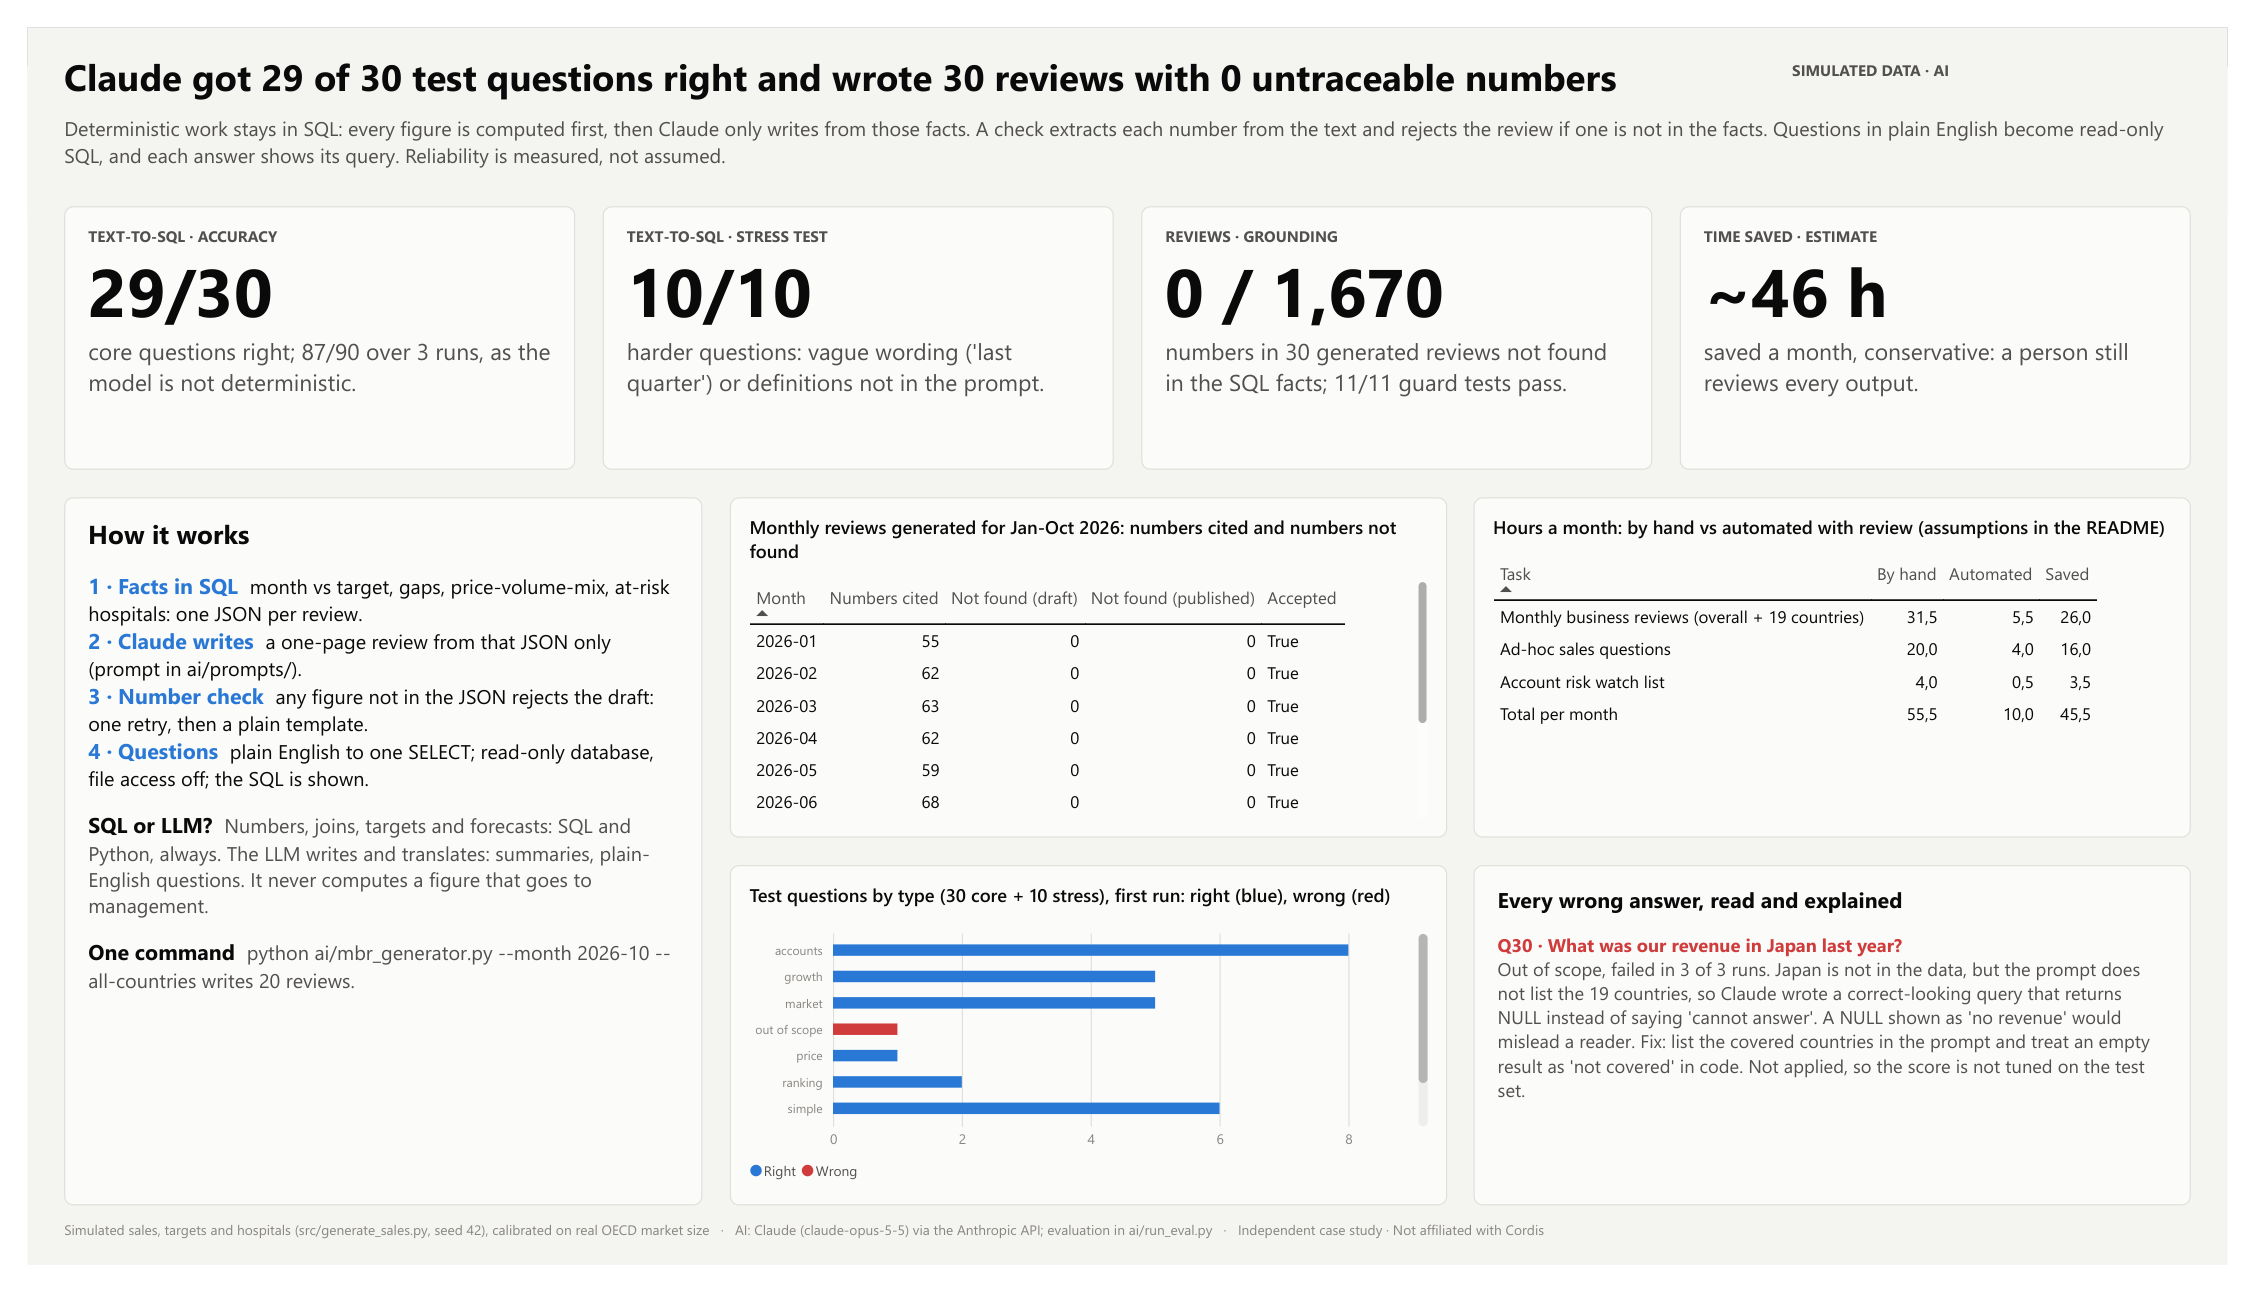

What the dashboard file says about the page in this screenshot:
{"tool":"powerbi","page":{"name":"5 · AI-automated reporting","canvas":[1920,1080],"ordinal":5},"visuals":[{"type":"textbox","box":[32,20,1500,56],"z":1000},{"type":"textbox","box":[1540,28,348,40],"z":2000},{"type":"textbox","box":[32,76,1856,64],"z":3000},{"type":"textbox","box":[32,156,446,230],"z":4000},{"type":"textbox","box":[502,156,446,230],"z":5000},{"type":"textbox","box":[972,156,446,230],"z":6000},{"type":"textbox","box":[1442,156,446,230],"z":7000},{"type":"textbox","box":[32,410,557,618],"z":8000},{"type":"tableEx","title":"Monthly reviews generated for Jan-Oct 2026: numbers cited and numbers not found","fields":{"Values":["AI MBR Eval.month","AI MBR Eval.numbers_cited","AI MBR Eval.unsupported_first_draft","AI MBR Eval.unsupported_final","AI MBR Eval.accepted"]},"box":[613,410,626,297],"z":9000},{"type":"tableEx","title":"Hours a month: by hand vs automated with review (assumptions in the README)","fields":{"Values":["AI Time Saving.task","AI Time Saving.manual_hours","AI Time Saving.automated_hours","AI Time Saving.hours_saved"]},"box":[1262,410,626,297],"z":10000},{"type":"barChart","title":"Test questions by type (30 core + 10 stress), first run: right (blue), wrong (red)","fields":{"Category":["AI SQL Eval.category"],"Y":["_Measures.SQL Correct","_Measures.SQL Wrong"]},"box":[613,731,626,297],"z":11000},{"type":"textbox","box":[1262,731,626,297],"z":12000},{"type":"textbox","box":[32,1040,1856,32],"z":13000}]}

Visuals, with their boxes in screenshot pixels (x1, y1, x2, y2), scaled from the page's 1920x1080 canvas onto the 2255x1293 screenshot:
textbox: [38, 24, 1799, 91]
textbox: [1809, 34, 2217, 81]
textbox: [38, 91, 2217, 168]
textbox: [38, 187, 561, 462]
textbox: [590, 187, 1113, 462]
textbox: [1142, 187, 1665, 462]
textbox: [1694, 187, 2217, 462]
textbox: [38, 491, 692, 1231]
"Monthly reviews generated for Jan-Oct 2026: numbers cited and numbers not found" tableEx: [720, 491, 1455, 846]
"Hours a month: by hand vs automated with review (assumptions in the README)" tableEx: [1482, 491, 2217, 846]
"Test questions by type (30 core + 10 stress), first run: right (blue), wrong (red)" barChart: [720, 875, 1455, 1231]
textbox: [1482, 875, 2217, 1231]
textbox: [38, 1245, 2217, 1283]
